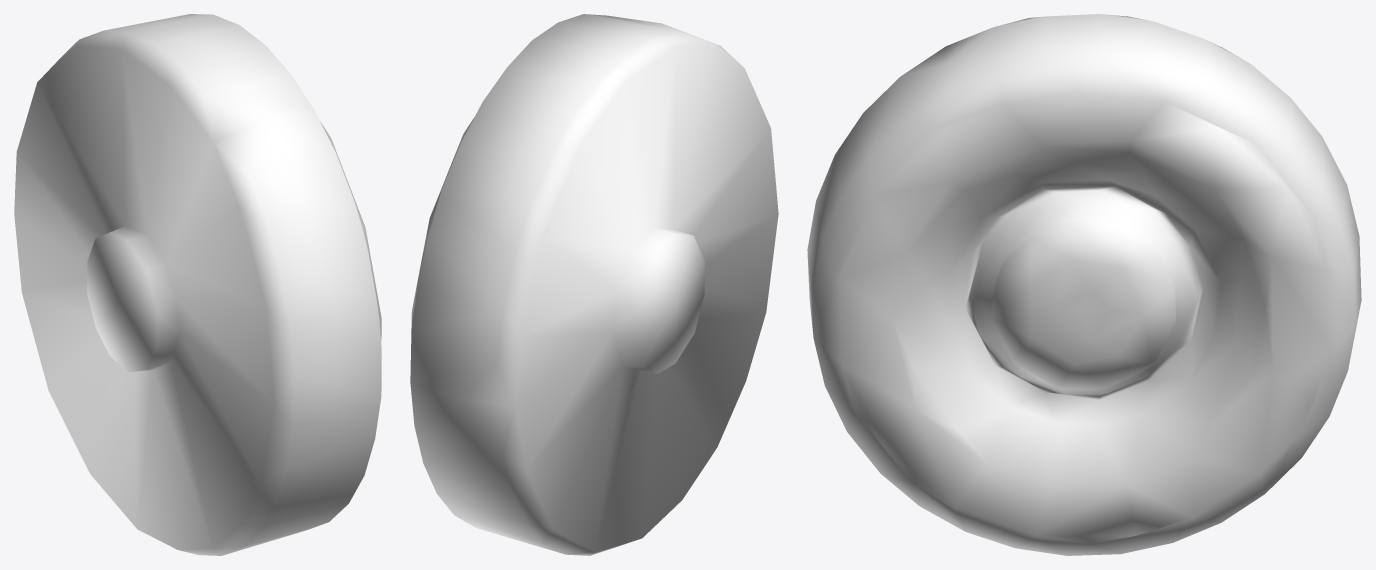
3 views of the same model, side by side, from view 1: azimuth 30°, elevation 25°; view 2: azimuth 150°, elevation 25°; view 3: azimuth 270°, elevation 25° (orthographic). The views are drawn at different scales.
Size of the model in its own units: 0.2082 by 0.6614 by 0.6628.
1 material, 1 textured.
